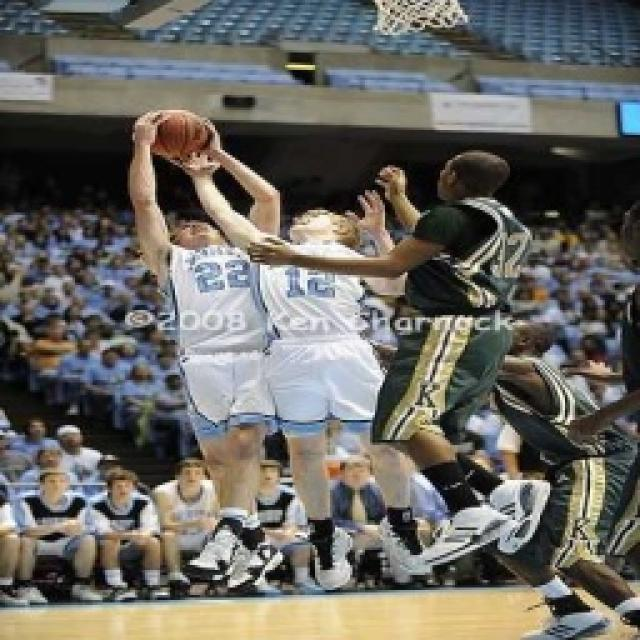basketball: (140, 102, 210, 162)
